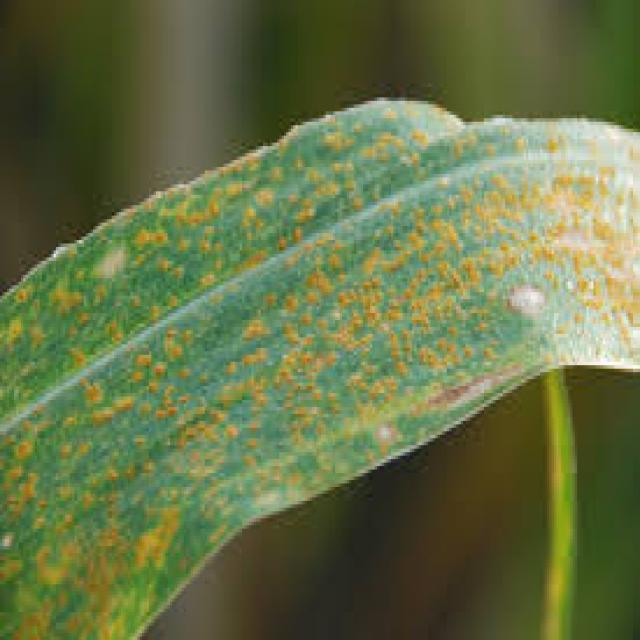Corn_Rust: (2, 87, 640, 619)
